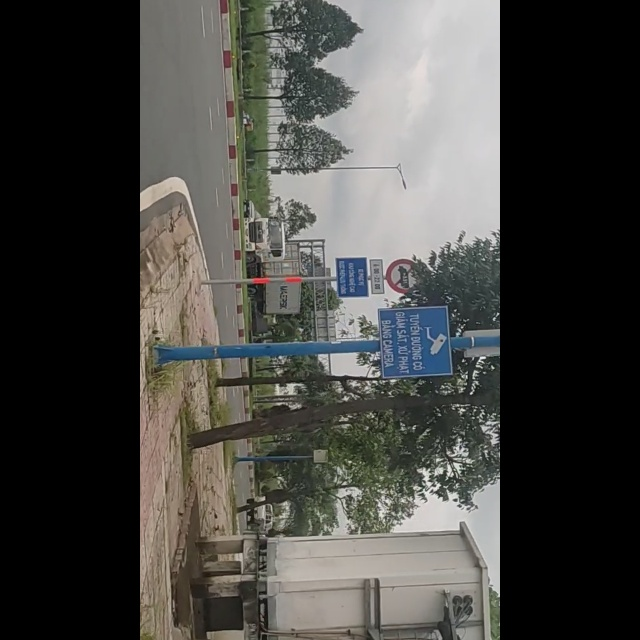bien_cam: (424, 306, 557, 375)
